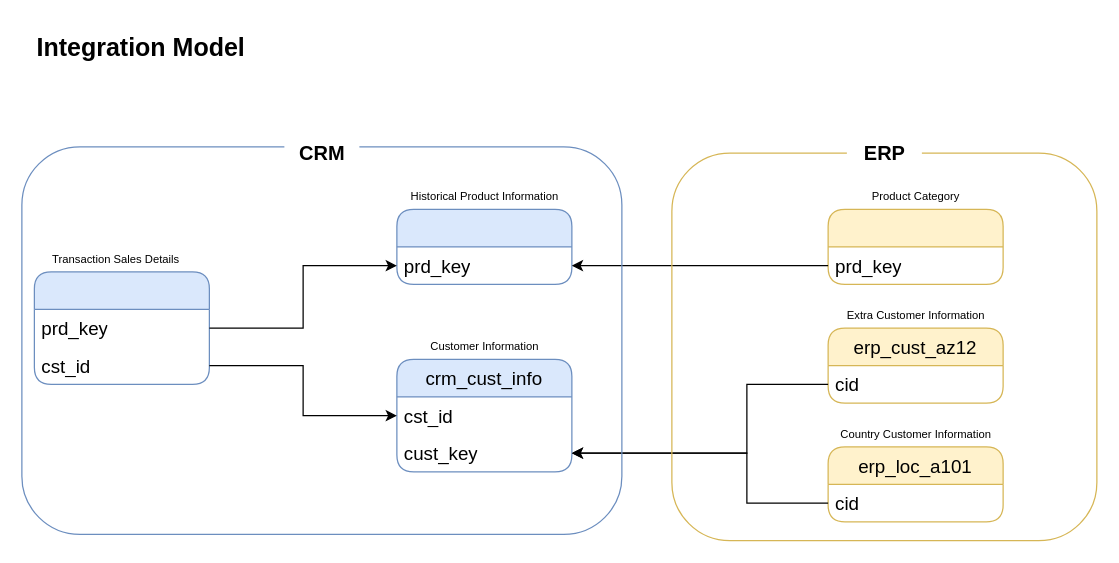
Some shapes in this 1119 by 563 pixel diagram are drawn without their labels. Each missing label, with the box of its shape:
crm_prd_info: (396, 208, 572, 284)
crm_sales_details: (33, 271, 209, 384)
erp_px_cat_g1v2: (827, 208, 1003, 284)
